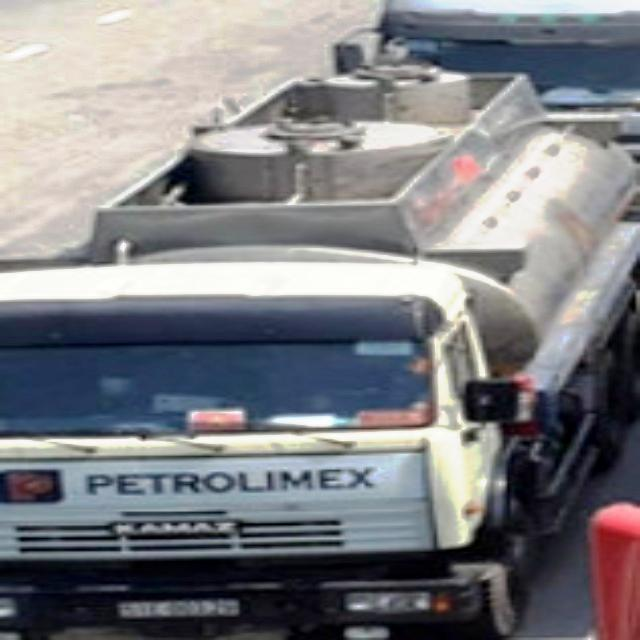Car: (0, 26, 623, 639)
